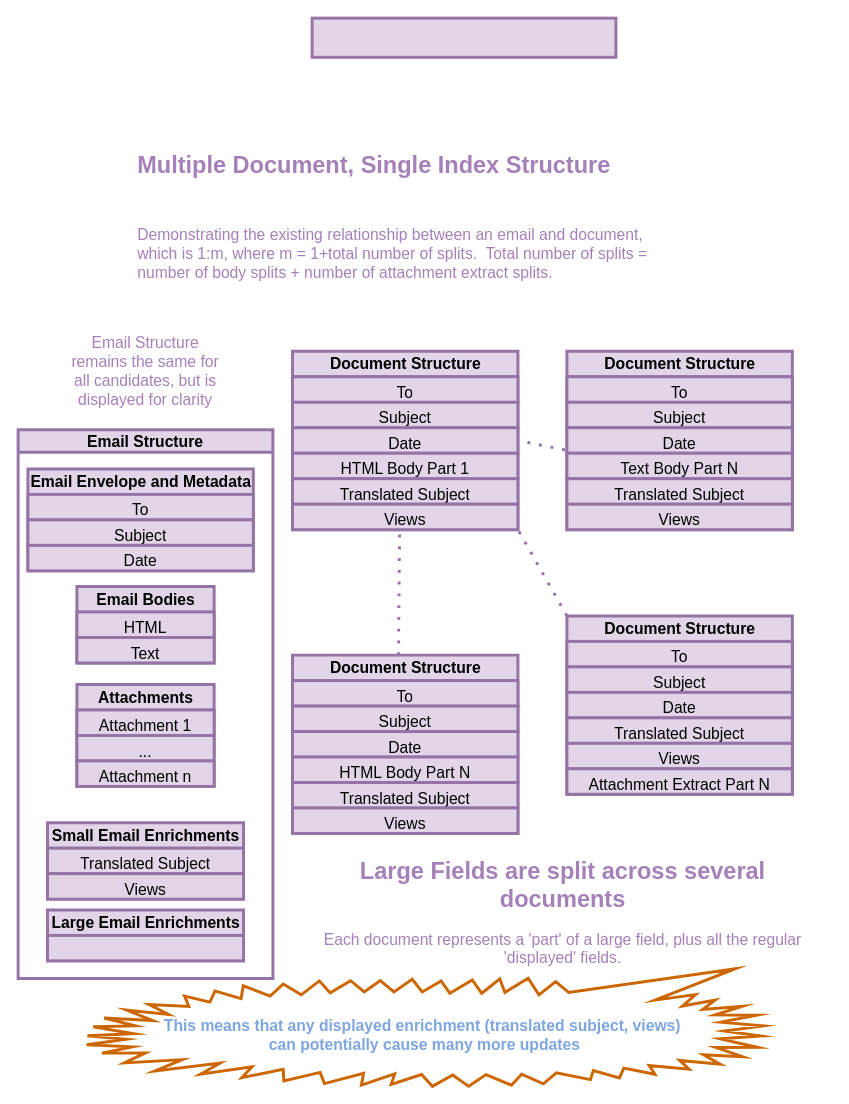
The diagram is 849 pixels wide and 1104 high, and some of its shapes have lost their labels. Here are the shapes that lost their labels. From the top down, the centre of each, then its label:
point (463, 37): Single Index Candidate
point (145, 947): Attachment Extracts
